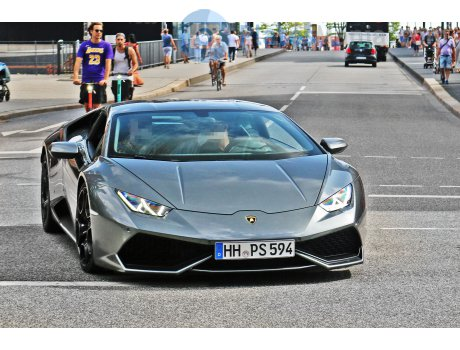License Plates: (220, 239, 293, 258)
